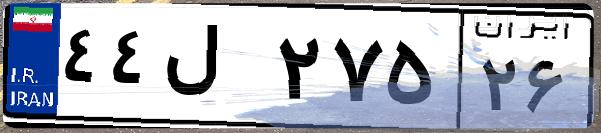2: (270, 28, 330, 110), (475, 38, 525, 113)
4: (57, 26, 110, 100), (110, 28, 158, 98)
5: (385, 28, 445, 110)
6: (525, 38, 570, 115)
7: (330, 28, 385, 110)
ل: (158, 20, 270, 120)
